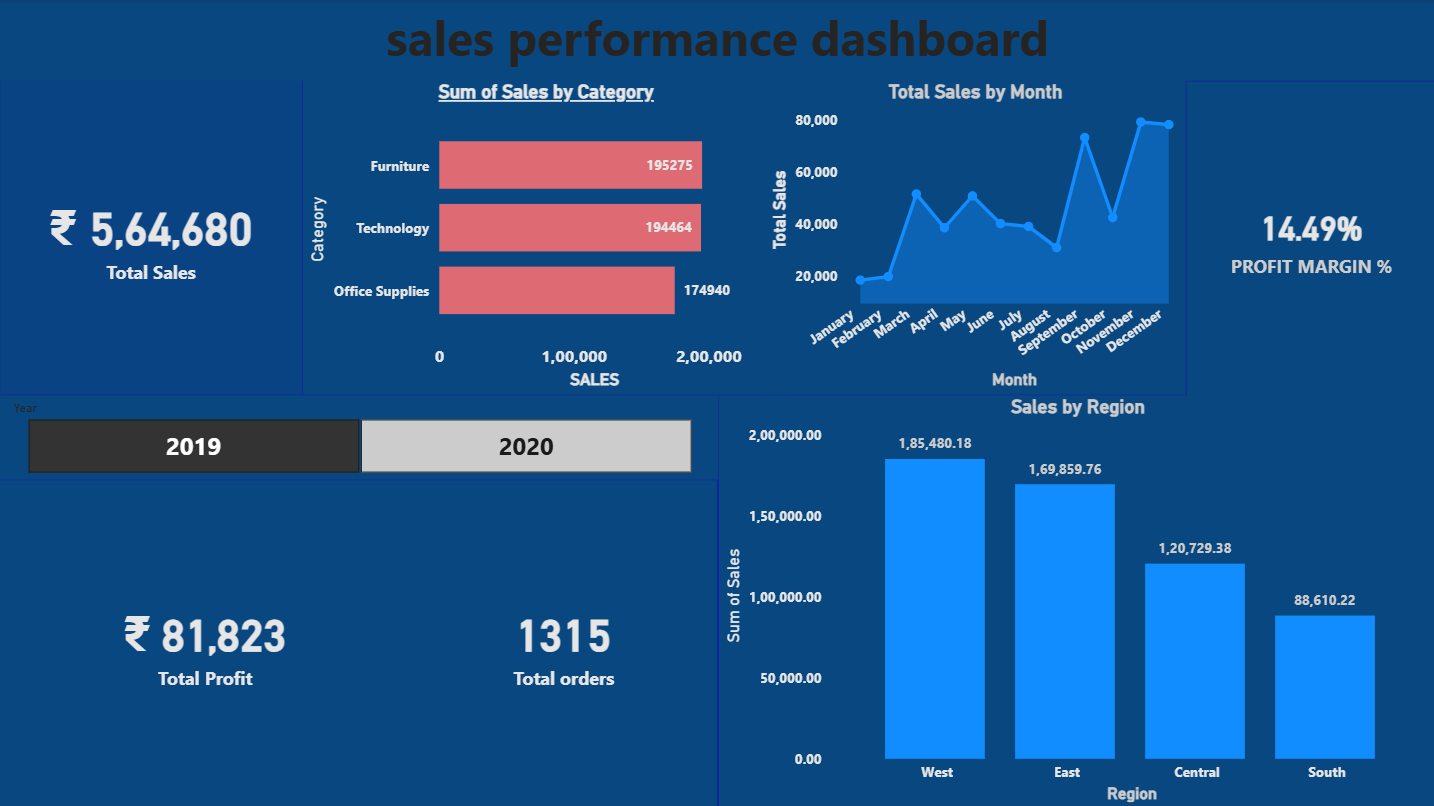

What the dashboard file says about the page in this screenshot:
{"tool":"powerbi","page":{"name":"Page 1","canvas":[1280,720],"ordinal":0},"visuals":[{"type":"card","fields":{"Values":["Sheet1.Total Sales"]},"box":[1.4,72.7,269,279.9],"z":0},{"type":"card","fields":{"Values":["Sheet1.Total Profit"]},"box":[0,428.1,367.8,292.3],"z":1000},{"type":"card","fields":{"Values":["Sheet1.Total orders"]},"box":[367.8,428.1,271.7,292.3],"z":2000},{"type":"clusteredBarChart","fields":{"Category":["Sheet1.Category"],"Y":["Sum(Sheet1.Sales)"]},"box":[270.3,72.7,433.6,279.9],"z":3000},{"type":"lineChart","fields":{"Category":["Sheet1.Order Date.Variation.Date Hierarchy.Month"],"Y":["Sheet1.Total Sales"]},"box":[682,72.7,374.6,279.9],"z":4001},{"type":"slicer","fields":{"Values":["Sheet1.Order Date.Variation.Date Hierarchy.Year"]},"box":[0,352.7,640.8,75.5],"z":4002},{"type":"textbox","box":[0,0,1280.3,72.7],"z":4003},{"type":"columnChart","title":" Sales by Region","fields":{"Category":["Sheet1.Region"],"Y":["Sum(Sheet1.Sales)"]},"box":[640.8,352.7,639.5,367.8],"z":4004},{"type":"card","fields":{"Values":["Sheet1.PROFIT MARGIN %"]},"box":[1057,73,223,280],"z":4005}]}

Visuals, with their boxes in screenshot pixels (x1, y1, x2, y2), scaled from the page's 1280x720 canvas onto the 1434x806 screenshot:
card - Sheet1.Total Sales: [2, 81, 303, 395]
card - Sheet1.Total Profit: [0, 479, 412, 805]
card - Sheet1.Total orders: [412, 479, 716, 805]
clusteredBarChart - Sheet1.Category x Sum(Sheet1.Sales): [303, 81, 789, 395]
lineChart - Sheet1.Order Date.Variation.Date Hierarchy.Month x Sheet1.Total Sales: [764, 81, 1184, 395]
slicer - Sheet1.Order Date.Variation.Date Hierarchy.Year: [0, 395, 718, 479]
textbox: [0, 0, 1433, 81]
" Sales by Region" columnChart: [718, 395, 1433, 805]
card - Sheet1.PROFIT MARGIN %: [1184, 82, 1433, 395]
